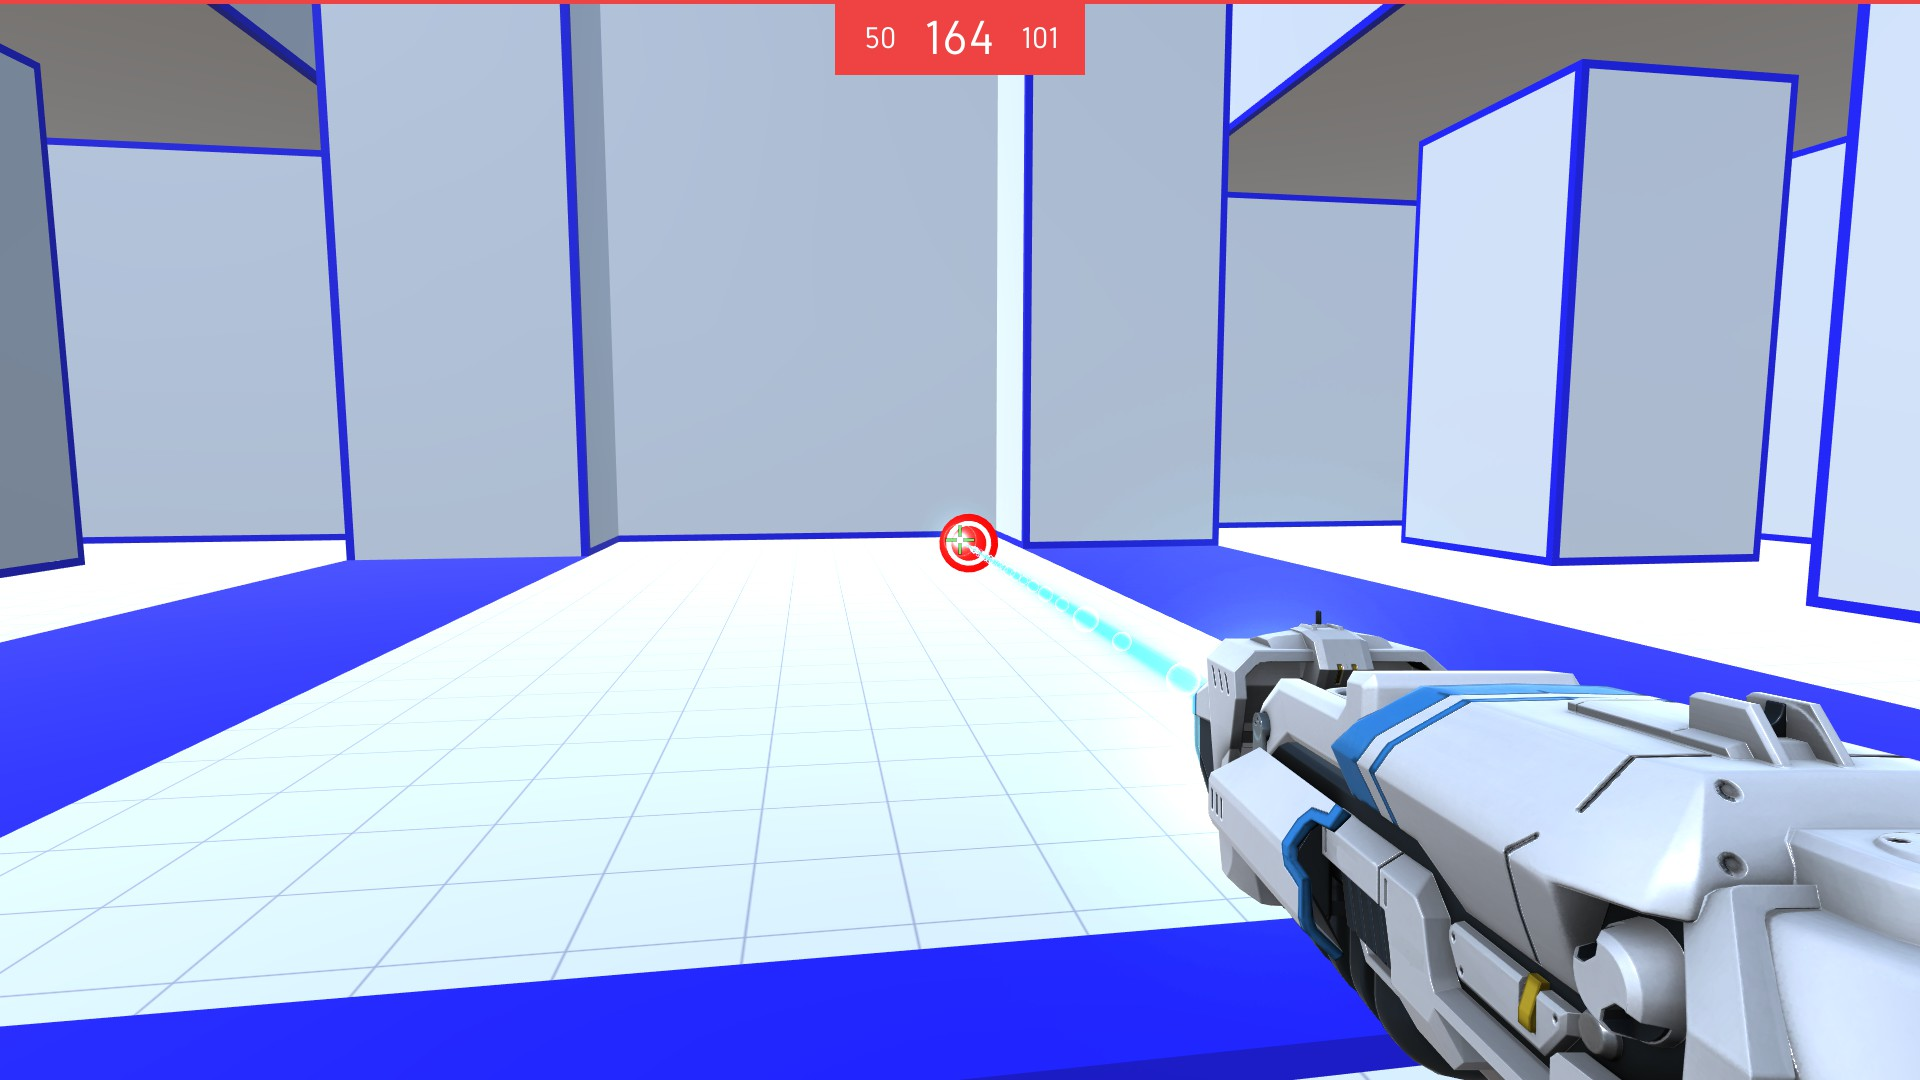target: (934, 513, 1002, 574)
